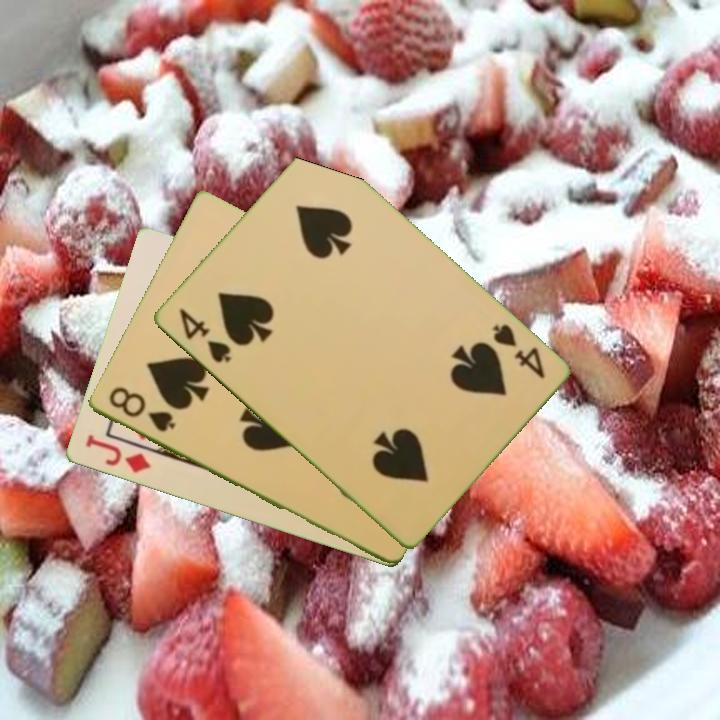4s: (174, 304, 234, 366), (488, 320, 547, 382)
8s: (104, 383, 178, 435)
Jd: (81, 431, 153, 476)
